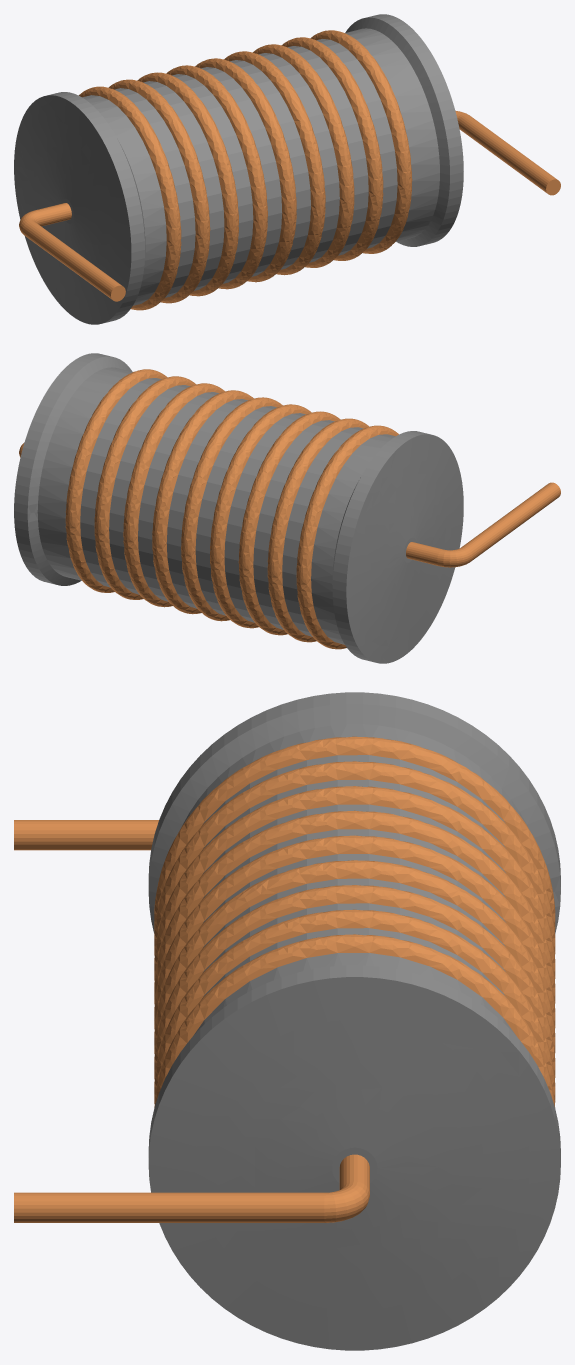
Rendered from L_Axial_L16.0mm_D9.5mm_P20.32mm_Horizontal_Vishay_IM-10-37.glb.
The picture shows the model from 3 angles, top to bottom: view 1: azimuth 30°, elevation 25°; view 2: azimuth 150°, elevation 25°; view 3: azimuth 270°, elevation 25°; orthographic projection. The views are drawn at different scales.
Parts seen in each view (by area): view 1: Shape_IndexedFaceSet.029, Shape_IndexedFaceSet.005, Shape_IndexedFaceSet.026, Shape_IndexedFaceSet.025, Shape_IndexedFaceSet.011, Shape_IndexedFaceSet.013, Shape_IndexedFaceSet.023, Shape_IndexedFaceSet.017, Shape_IndexedFaceSet.015, Shape_IndexedFaceSet.021, Shape_IndexedFaceSet.019, Shape_IndexedFaceSet.007 (+14 smaller); view 2: Shape_IndexedFaceSet.029, Shape_IndexedFaceSet.005, Shape_IndexedFaceSet.026, Shape_IndexedFaceSet.025, Shape_IndexedFaceSet.023, Shape_IndexedFaceSet.011, Shape_IndexedFaceSet.007, Shape_IndexedFaceSet.013, Shape_IndexedFaceSet.019, Shape_IndexedFaceSet.021, Shape_IndexedFaceSet.015, Shape_IndexedFaceSet.017 (+14 smaller); view 3: Shape_IndexedFaceSet, Shape_IndexedFaceSet.027, Shape_IndexedFaceSet.008, Shape_IndexedFaceSet.019, Shape_IndexedFaceSet.011, Shape_IndexedFaceSet.013, Shape_IndexedFaceSet.023, Shape_IndexedFaceSet.015, Shape_IndexedFaceSet.021, Shape_IndexedFaceSet.017, Shape_IndexedFaceSet.025, Shape_IndexedFaceSet.007 (+15 smaller).
Part boxes in pixels (left/top/right/bottom): Shape_IndexedFaceSet.029: left=14, top=95, right=131, bottom=324; Shape_IndexedFaceSet.005: left=345, top=28, right=439, bottom=241; Shape_IndexedFaceSet.026: left=82, top=95, right=166, bottom=305; Shape_IndexedFaceSet.025: left=79, top=86, right=181, bottom=310; Shape_IndexedFaceSet.011: left=281, top=37, right=383, bottom=260; Shape_IndexedFaceSet.013: left=253, top=44, right=354, bottom=267; Shape_IndexedFaceSet.023: left=108, top=79, right=210, bottom=303; Shape_IndexedFaceSet.017: left=195, top=58, right=296, bottom=282; Shape_IndexedFaceSet.015: left=224, top=51, right=325, bottom=275; Shape_IndexedFaceSet.021: left=137, top=72, right=238, bottom=296; Shape_IndexedFaceSet.019: left=166, top=65, right=267, bottom=289; Shape_IndexedFaceSet.007: left=310, top=30, right=412, bottom=253; Shape_IndexedFaceSet.029: left=346, top=434, right=463, bottom=663; Shape_IndexedFaceSet.005: left=37, top=367, right=132, bottom=580; Shape_IndexedFaceSet.026: left=311, top=434, right=395, bottom=644; Shape_IndexedFaceSet.025: left=296, top=425, right=398, bottom=649; Shape_IndexedFaceSet.023: left=267, top=418, right=368, bottom=642; Shape_IndexedFaceSet.011: left=94, top=376, right=195, bottom=599; Shape_IndexedFaceSet.007: left=65, top=369, right=167, bottom=592; Shape_IndexedFaceSet.013: left=123, top=383, right=224, bottom=607; Shape_IndexedFaceSet.019: left=210, top=404, right=311, bottom=628; Shape_IndexedFaceSet.021: left=238, top=411, right=340, bottom=635; Shape_IndexedFaceSet.015: left=152, top=390, right=253, bottom=614; Shape_IndexedFaceSet.017: left=181, top=397, right=282, bottom=621; Shape_IndexedFaceSet: left=148, top=977, right=560, bottom=1350; Shape_IndexedFaceSet.027: left=148, top=704, right=560, bottom=933; Shape_IndexedFaceSet.008: left=14, top=1192, right=324, bottom=1222; Shape_IndexedFaceSet.019: left=154, top=810, right=555, bottom=1003; Shape_IndexedFaceSet.011: left=154, top=909, right=555, bottom=1103; Shape_IndexedFaceSet.013: left=154, top=885, right=555, bottom=1078; Shape_IndexedFaceSet.023: left=154, top=761, right=555, bottom=955; Shape_IndexedFaceSet.015: left=154, top=860, right=555, bottom=1053; Shape_IndexedFaceSet.021: left=154, top=786, right=555, bottom=980; Shape_IndexedFaceSet.017: left=154, top=835, right=555, bottom=1028; Shape_IndexedFaceSet.025: left=154, top=736, right=555, bottom=930; Shape_IndexedFaceSet.007: left=154, top=934, right=555, bottom=1107.
Bounding box in the file's own units: 8.27 × 3.74 × 4.96.
